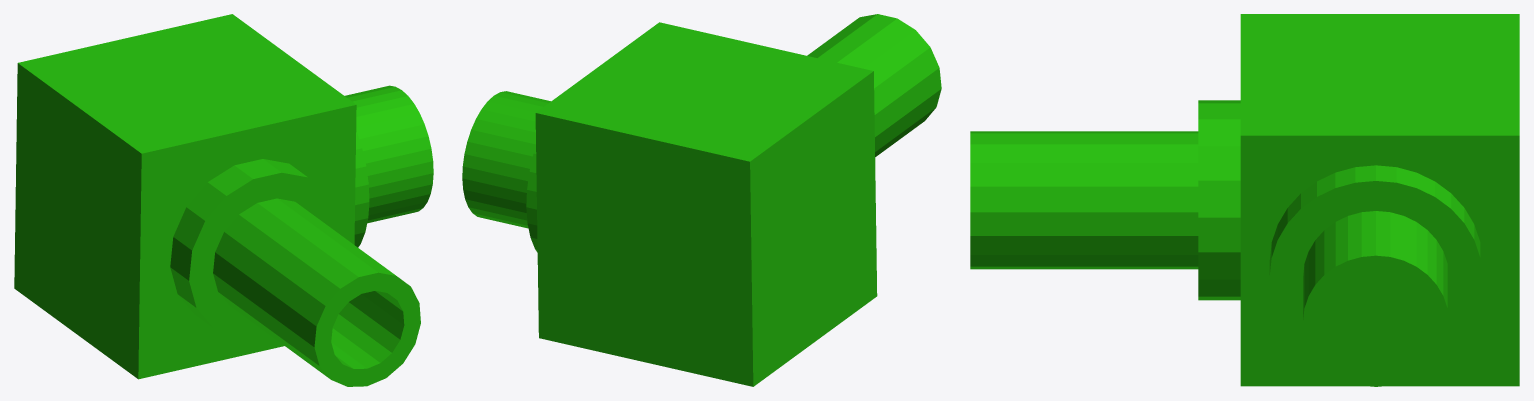
Rendered from regulator_collision.dae.
The picture shows the model from 3 angles, left to right: view 1: azimuth 30°, elevation 25°; view 2: azimuth 150°, elevation 25°; view 3: azimuth 270°, elevation 25°; orthographic projection. The views are drawn at different scales.
Parts seen in each view (by area): view 1: Out_Regulator; view 2: Out_Regulator; view 3: Out_Regulator.
Boxes of the visible parts, box(x1,y1,x2,y2) form: Out_Regulator: box(14, 14, 433, 386); Out_Regulator: box(462, 14, 941, 386); Out_Regulator: box(970, 14, 1519, 386).
Size of the model in its own units: 0.1015 by 0.1327 by 0.0684.
